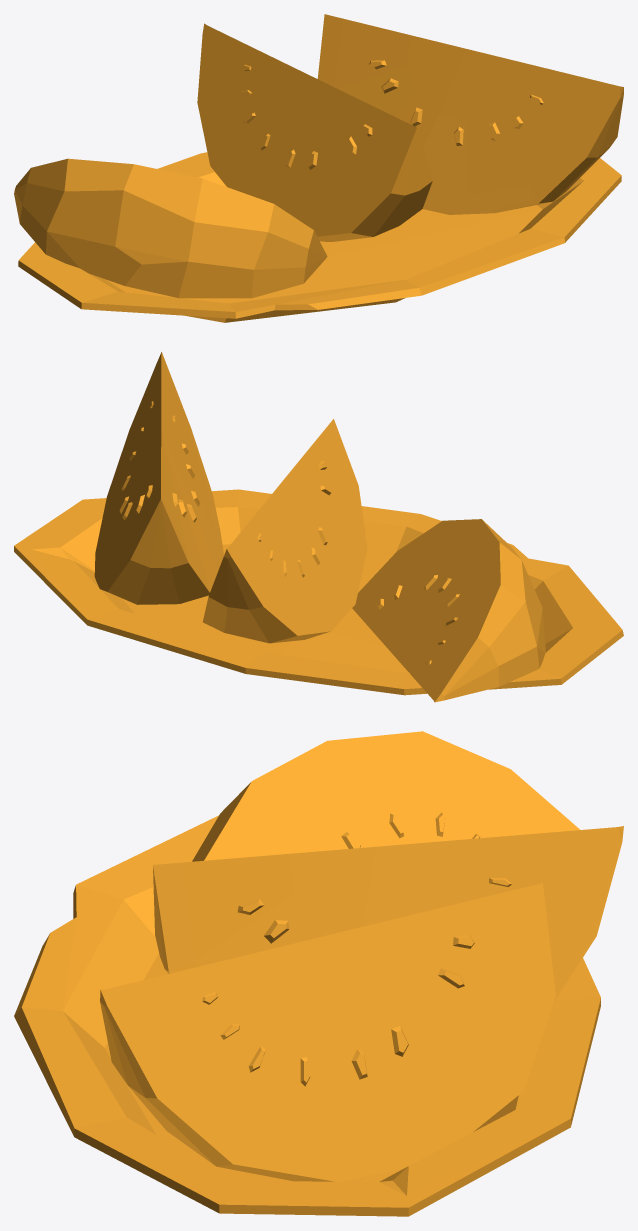
Rendered from SM_Plate_Pewter_Tray_Melon_Fantasy.fbx.
3 views of the same model, one above another, from view 1: azimuth 30°, elevation 25°; view 2: azimuth 150°, elevation 25°; view 3: azimuth 270°, elevation 25° (orthographic). The views are drawn at different scales.
Parts seen in each view (by area): view 1: plate-pewter-tray-melon-fantasy; view 2: plate-pewter-tray-melon-fantasy; view 3: plate-pewter-tray-melon-fantasy.
Part boxes in pixels (x1,y1,x2,y2): plate-pewter-tray-melon-fantasy: (14,14,623,322); plate-pewter-tray-melon-fantasy: (14,352,623,702); plate-pewter-tray-melon-fantasy: (14,731,623,1216).
Size of the model in its own units: 0.5203 by 0.1436 by 0.3425.
